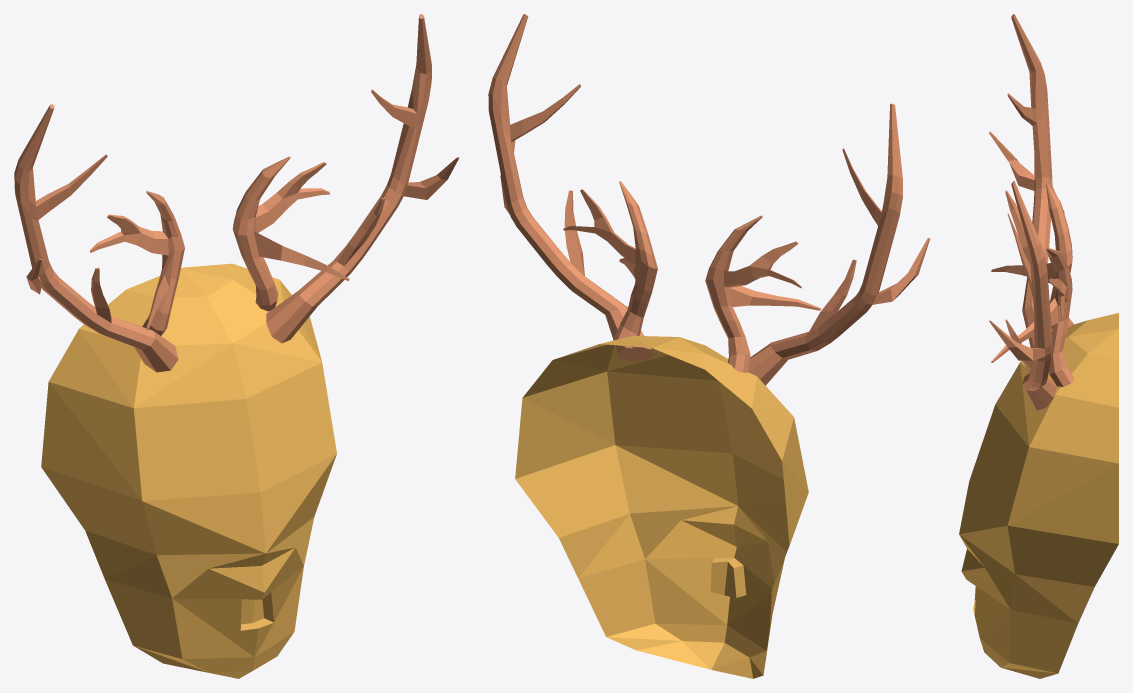
The model's file is PickUp1.fbx.
The picture shows the model from 3 angles, left to right: view 1: azimuth 30°, elevation 25°; view 2: azimuth 150°, elevation 25°; view 3: azimuth 270°, elevation 25°; orthographic projection. The views are drawn at different scales.
Visible parts, largest first — view 1: Máscara, Cuerno1, Cuerno2; view 2: Máscara, Cuerno1, Cuerno2; view 3: Máscara, Cuerno1, Cuerno2.
Boxes of the visible parts, x1,y1,x2,y2 form: Máscara: (41,263,336,678); Cuerno1: (14,14,459,372); Cuerno2: (90,156,349,335); Máscara: (515,335,808,678); Cuerno1: (488,14,930,385); Cuerno2: (563,181,820,372); Máscara: (959,313,1118,678); Cuerno1: (989,14,1056,410); Cuerno2: (991,181,1074,386).
Bounding box in the file's own units: 257 × 361 × 91.71.
